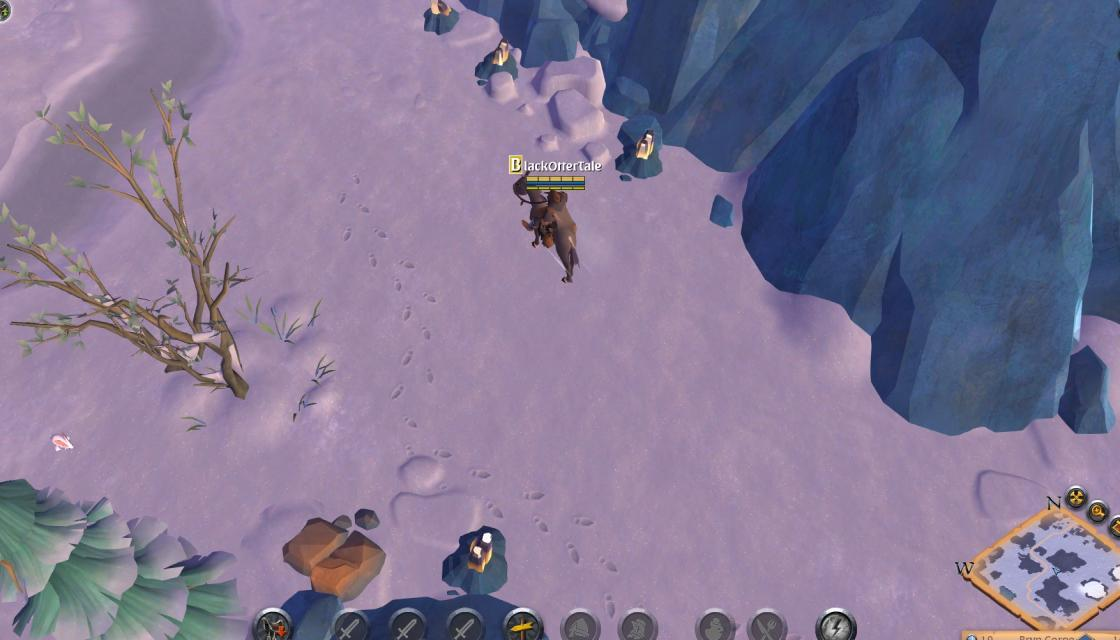copperore: (436, 522, 514, 606), (612, 129, 664, 181), (475, 36, 522, 84), (417, 0, 463, 39)
limestone: (279, 510, 383, 606)
